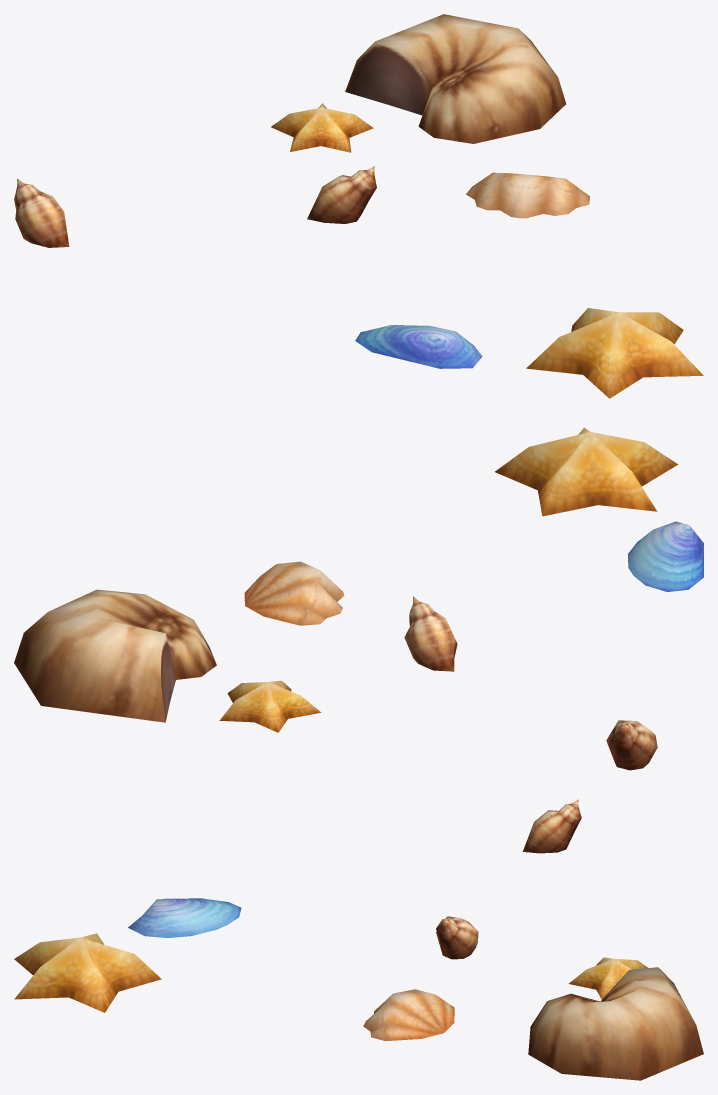
File: scene_lawennushandao_beike01.FBX
3 renders of one model, top to bottom at view 1: azimuth 30°, elevation 25°; view 2: azimuth 150°, elevation 25°; view 3: azimuth 270°, elevation 25°, orthographic. The views are drawn at different scales.
Parts seen in each view (by area): view 1: scene_lawennushandao_beike01; view 2: scene_lawennushandao_beike01; view 3: scene_lawennushandao_beike01.
Boxes of the visible parts, x1,y1,x2,y2 form: scene_lawennushandao_beike01: (14,14,703,398); scene_lawennushandao_beike01: (14,427,703,770); scene_lawennushandao_beike01: (14,799,703,1080).
Bounding box in the file's own units: 188 × 19.75 × 225.
